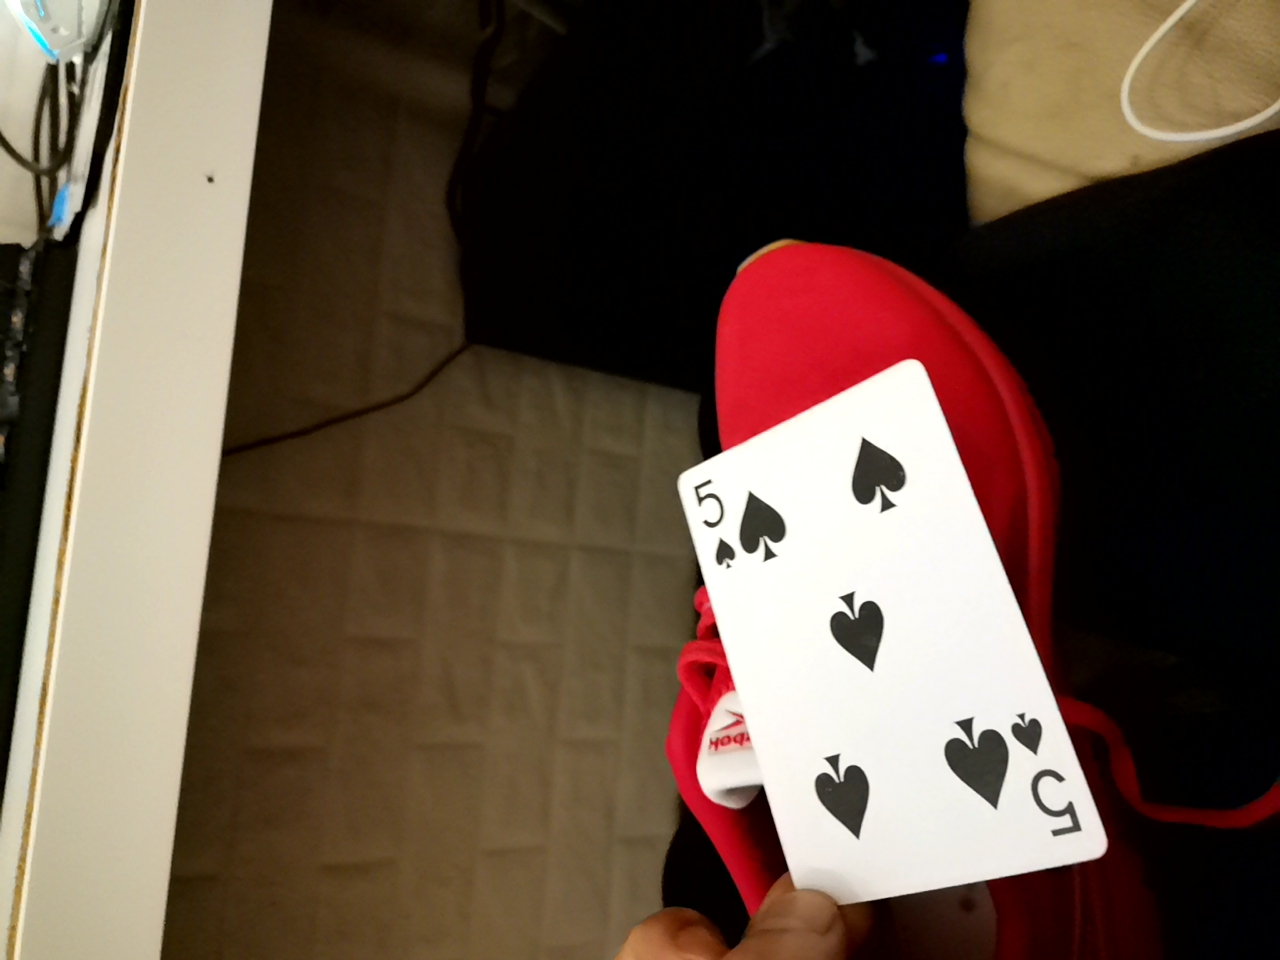ht 5: (658, 382, 1067, 911)
